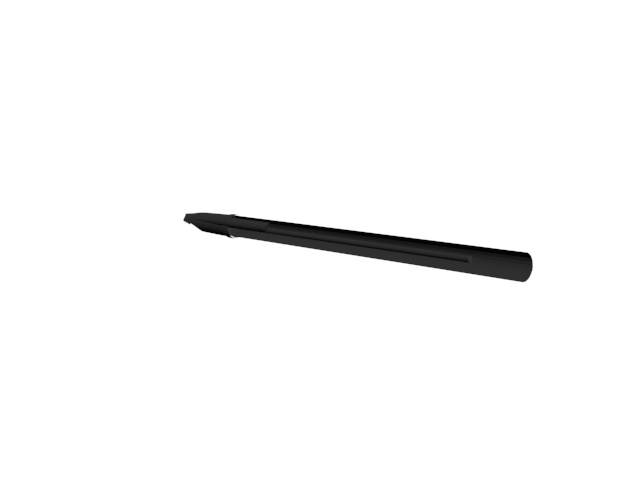pen: (177, 209, 536, 288)
